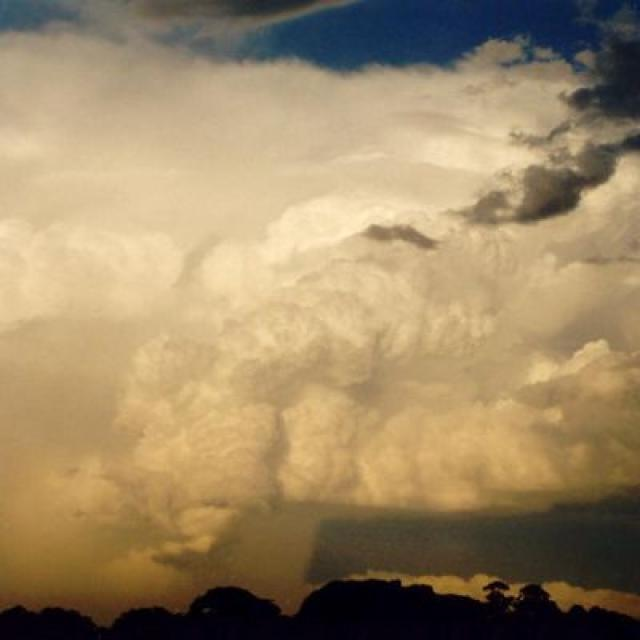Cb: (1, 77, 640, 503)
